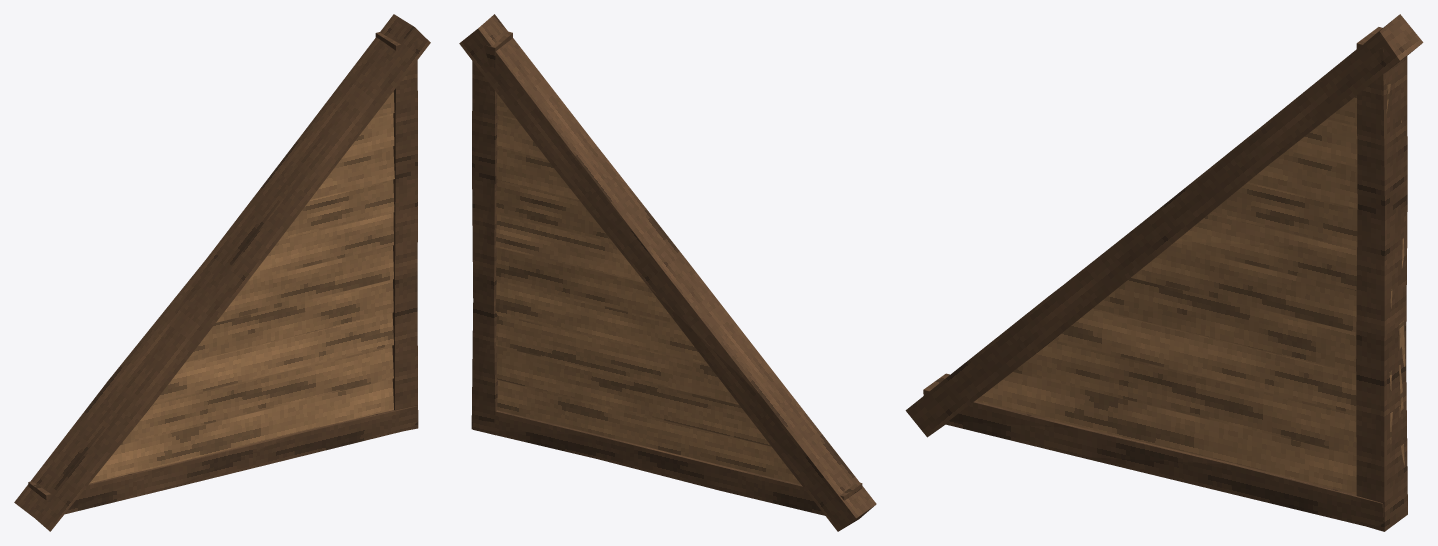
The model's file is parede_triangular.glb.
The picture shows the model from 3 angles, left to right: view 1: azimuth 30°, elevation 25°; view 2: azimuth 150°, elevation 25°; view 3: azimuth 330°, elevation 25°; orthographic projection. The views are drawn at different scales.
Parts seen in each view (by area): view 1: parede_triangular_madeira, parede_triangular_madeira_escura; view 2: parede_triangular_madeira, parede_triangular_madeira_escura; view 3: parede_triangular_madeira, parede_triangular_madeira_escura.
Boxes of the visible parts, <box> form: parede_triangular_madeira: <box>89,91,394,483</box>; parede_triangular_madeira_escura: <box>14,14,430,531</box>; parede_triangular_madeira: <box>495,94,800,484</box>; parede_triangular_madeira_escura: <box>459,14,876,531</box>; parede_triangular_madeira: <box>975,84,1405,494</box>; parede_triangular_madeira_escura: <box>905,14,1423,531</box>.
Size of the model in its own units: 3.21 by 3.22 by 0.2949.
2 materials, 2 textured.
